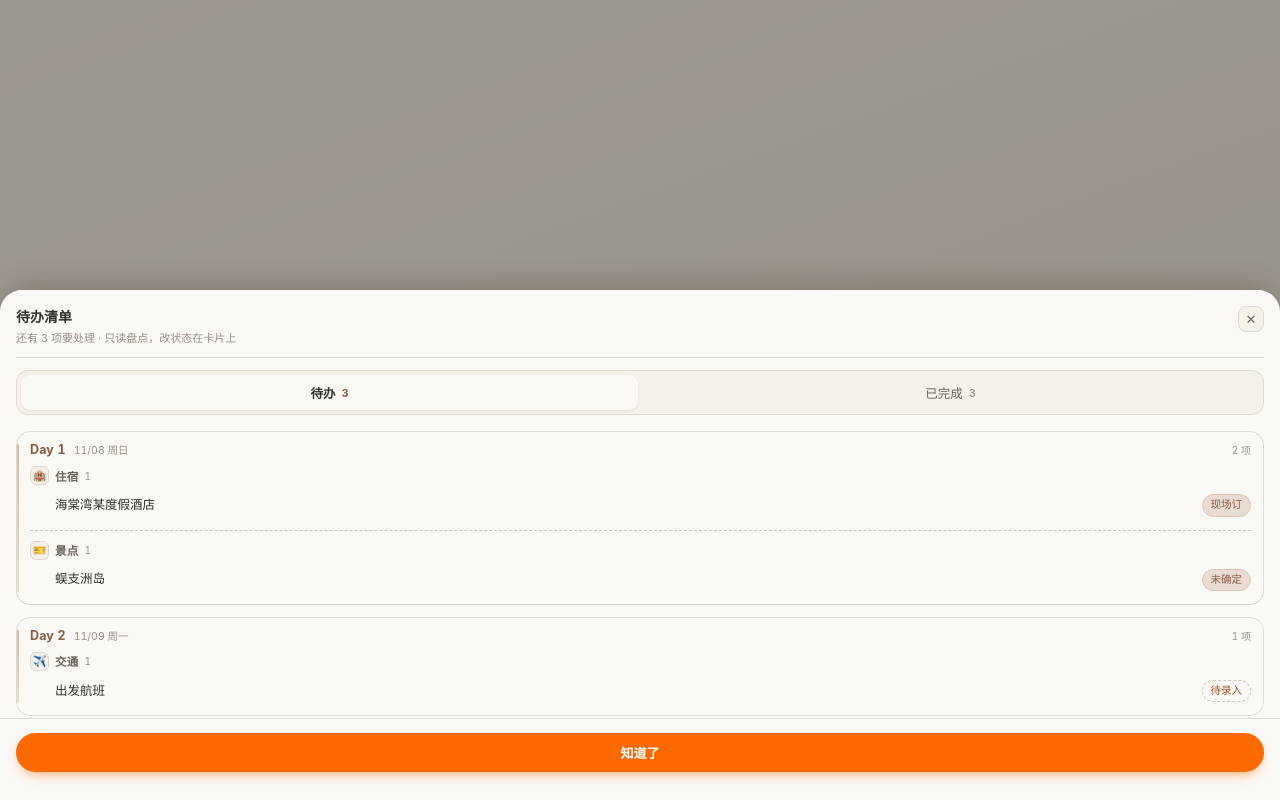
TripChecklist 待办 / 已完成分组 › 切到已完成：展示已购 / 已订房 / 航班 label，并保留按天分组
The width and height of the screenshot is (1280, 800).
Click the tab "已完成 3" at {"x": 950, "y": 393}, box [642,376,1259,410]
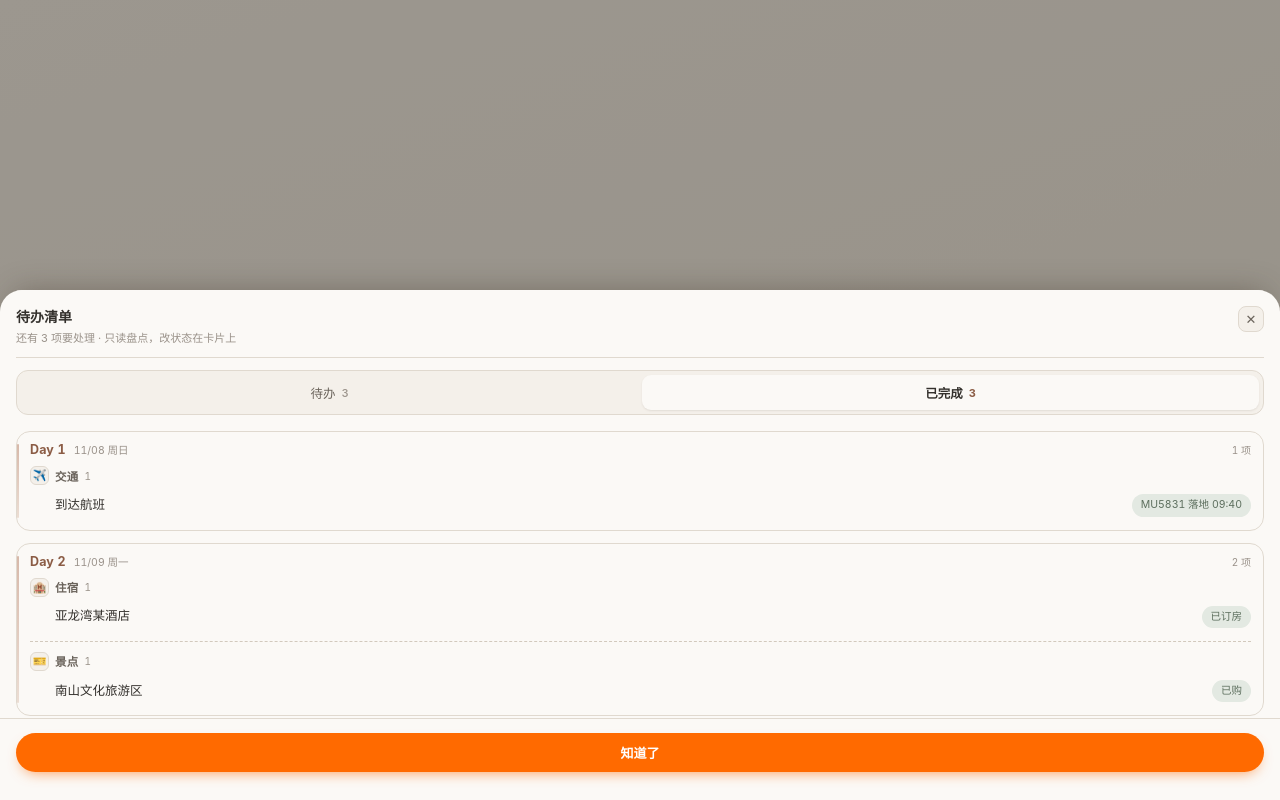
Expected: the element "Day 1" shows "到达航班", [55,497,105,512]
Expected: the element "Day 1" shows "MU5831 落地 09:40", [1141,498,1242,512]
Expected: the element "Day 2" shows "亚龙湾某酒店", [55,608,130,623]
# 切回待办：内容仍是待办那组
Click the tab "待办 3" at {"x": 330, "y": 393}, box [21,376,638,410]
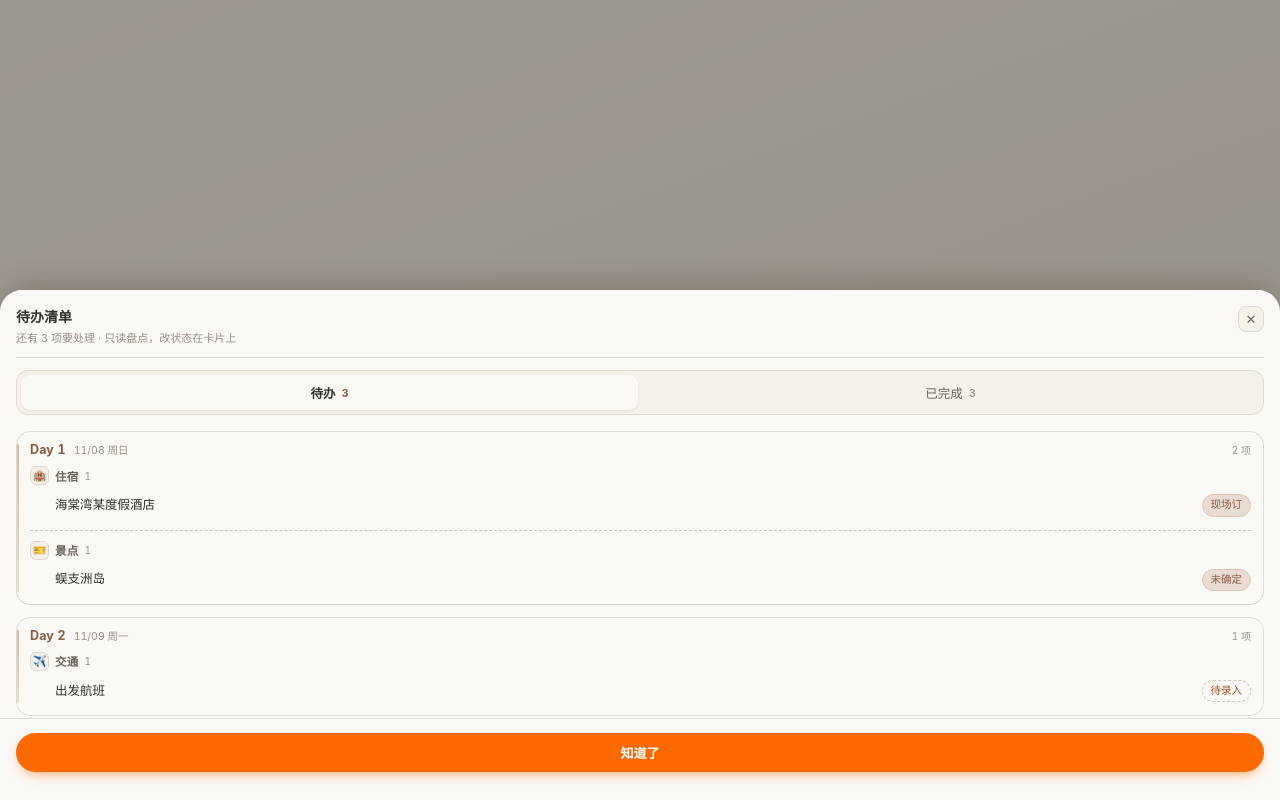
Expected: the text "南山文化旅游区" is gone
